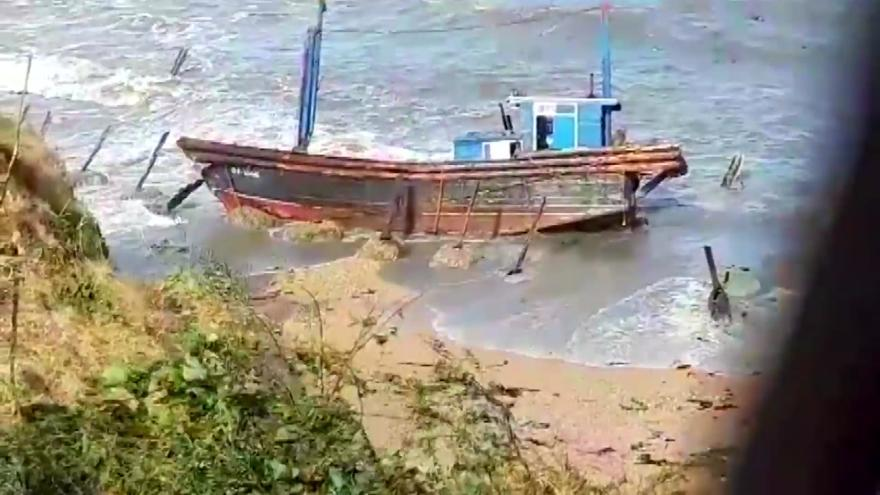Ship: (171, 38, 701, 249)
